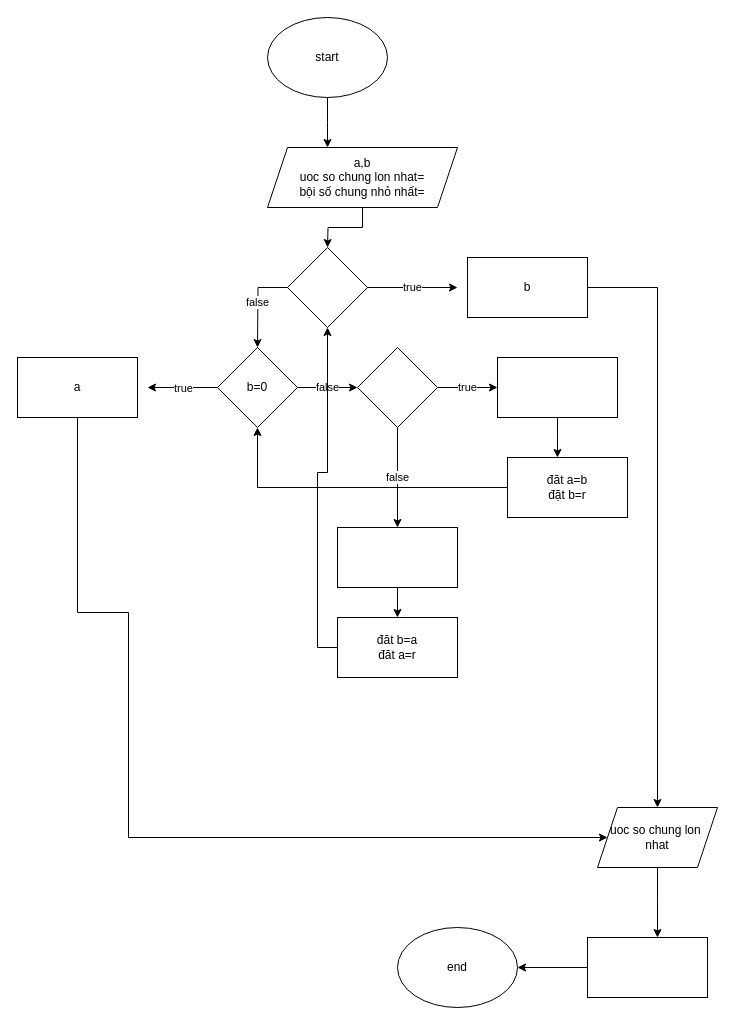
Some shapes in this 735 by 1025 pixel diagram are drawn without their labels. Here are the shapes that lost their labels. From the top down, the box of each, then its label:
(286, 246, 368, 328): a=0
(356, 346, 438, 428): a>b
(496, 356, 618, 418): a mod b=r
(336, 526, 458, 588): b mod a =r
(586, 936, 708, 998): bscnn=a*b/uscln(a,b)
